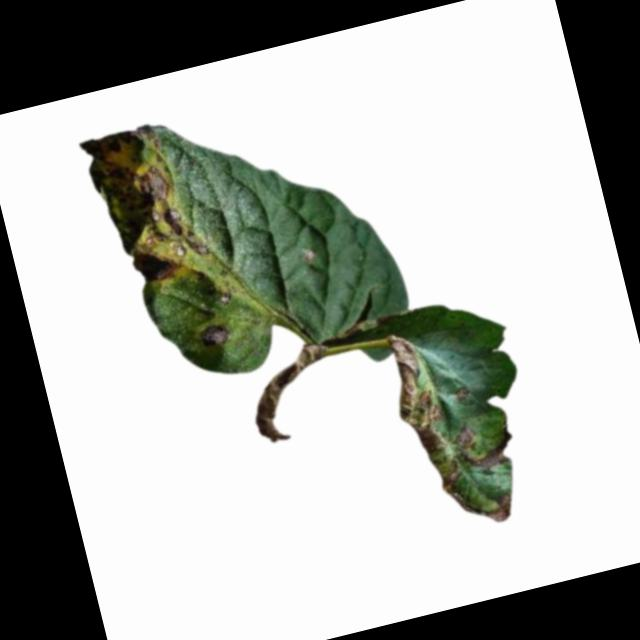Early_blight: (78, 115, 216, 291), (379, 326, 466, 503), (224, 338, 347, 449), (451, 416, 512, 474), (475, 489, 518, 526), (197, 320, 230, 349), (452, 386, 467, 401)
